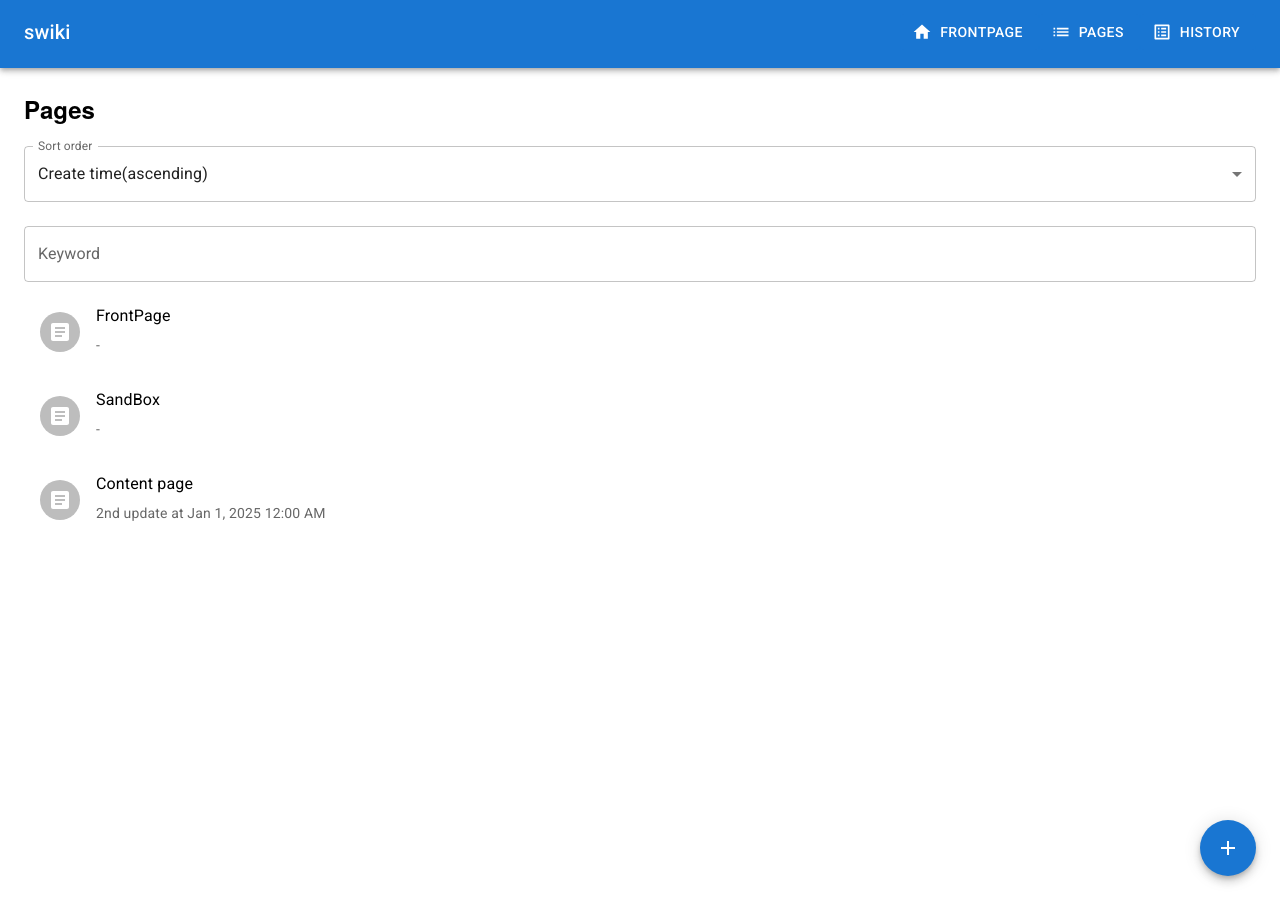
route › navigation › top app bar › should move to History page from Pages when $heading button in app bar is pressed
The image size is (1280, 900).
Step 1. Click the button "History" → (1198, 32), box [1140, 14, 1256, 50]
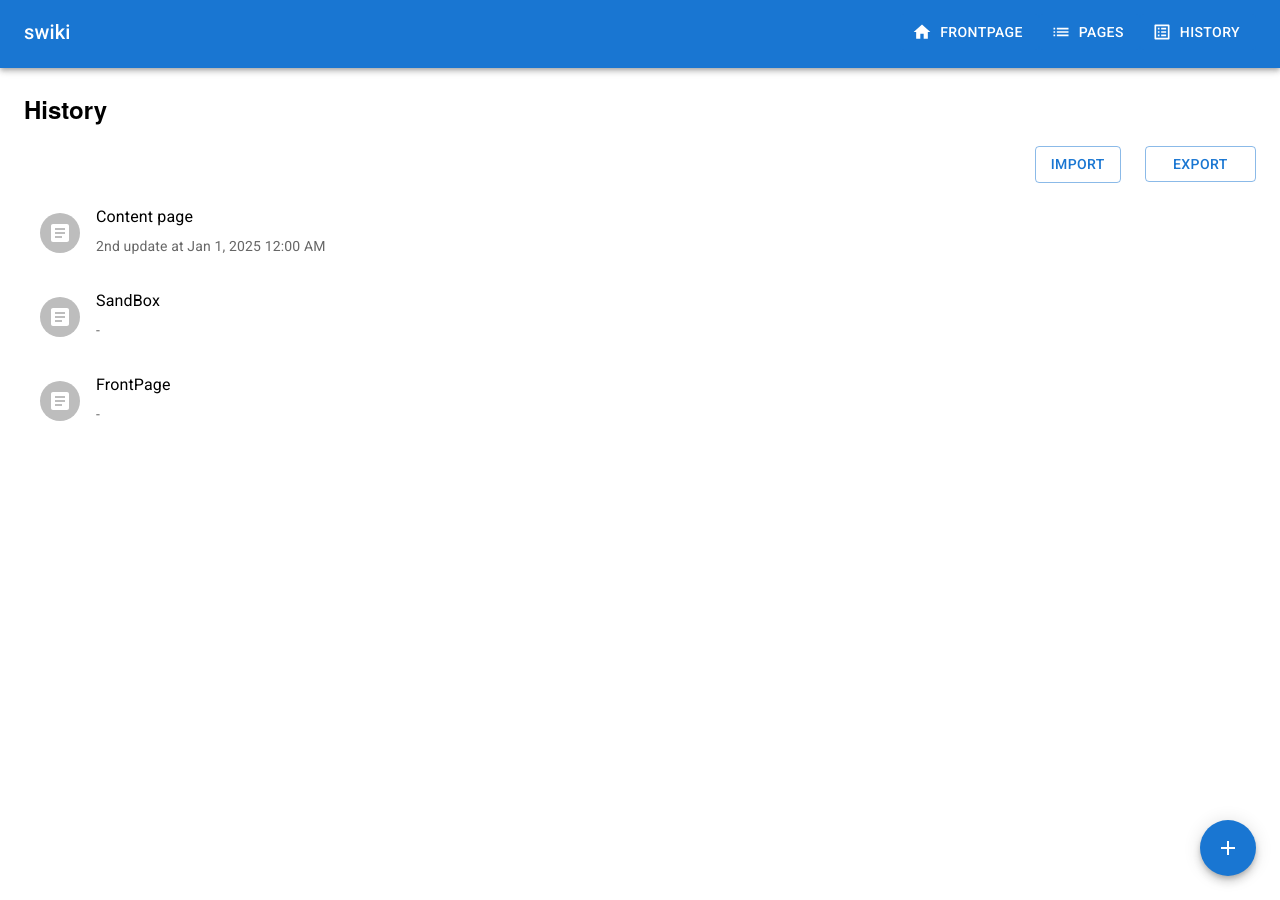
expect the heading "History" is shown: met, box [24, 92, 107, 126]
